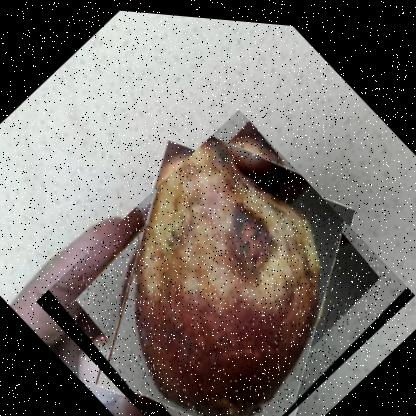guava_rotten: (35, 88, 415, 415)
